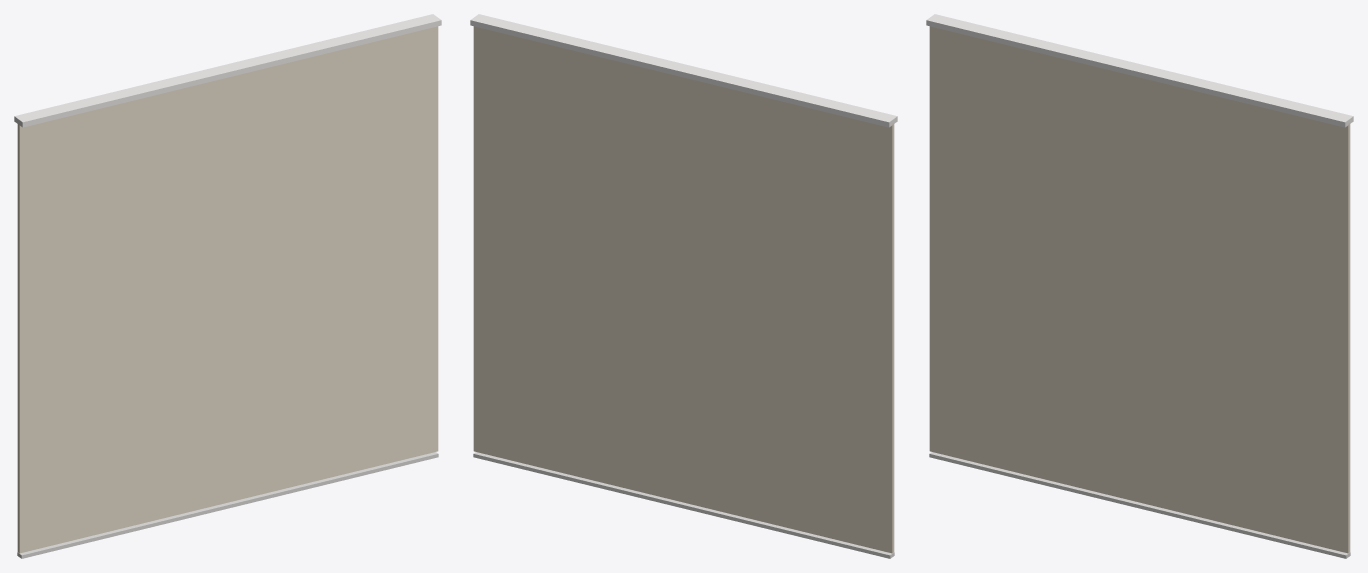
The model's file is persiana-enrollable-beige.glb.
3 views of the same model, side by side, from view 1: azimuth 30°, elevation 25°; view 2: azimuth 150°, elevation 25°; view 3: azimuth 330°, elevation 25° (orthographic).
Visible parts, largest first — view 1: Tela, PerfilSuperior, Contrapeso; view 2: Tela, PerfilSuperior, Contrapeso; view 3: Tela, PerfilSuperior, Contrapeso.
Part boxes in pixels (x1,y1,x2,y2): Tela: (17,26,438,553); PerfilSuperior: (14,14,441,127); Contrapeso: (17,452,438,558); Tela: (473,26,894,553); PerfilSuperior: (470,14,897,127); Contrapeso: (473,452,894,558); Tela: (929,26,1350,553); PerfilSuperior: (926,14,1353,127); Contrapeso: (929,452,1350,558).
Size of the model in its own units: 1 by 1 by 0.035.
